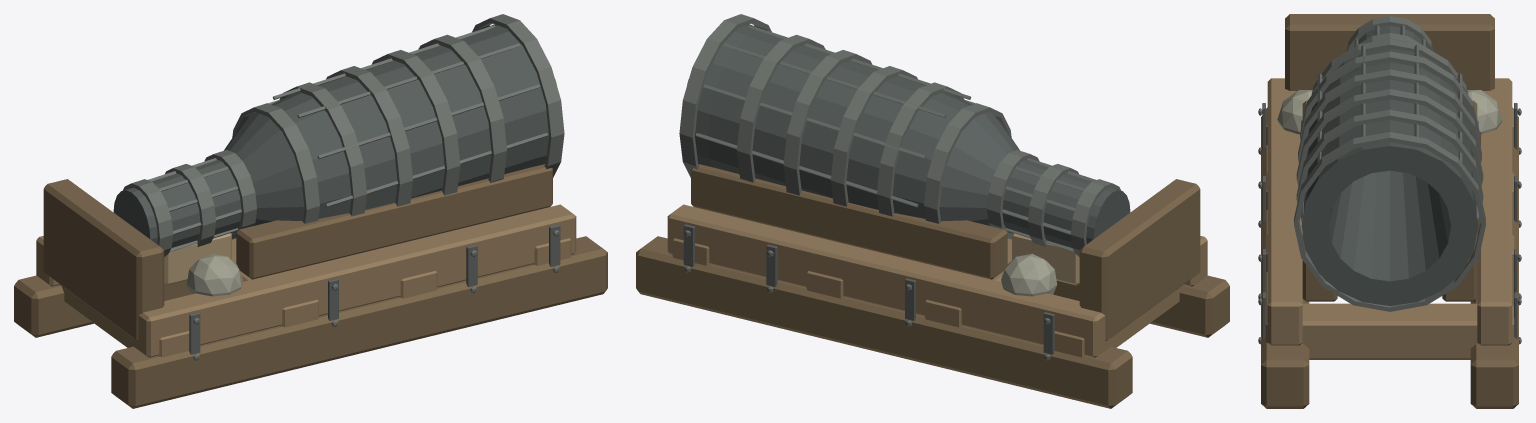
File: artillery_bombard.glb
3 renders of one model, left to right at view 1: azimuth 30°, elevation 25°; view 2: azimuth 150°, elevation 25°; view 3: azimuth 270°, elevation 25°, orthographic. The views are drawn at different scales.
Parts seen in each view (by area): view 1: artillery_bombard_oak_dark, artillery_bombard_gun_iron, artillery_bombard_gun_bands, artillery_bombard_oak, artillery_bombard_stone, artillery_bombard_iron, artillery_bombard_oak_light; view 2: artillery_bombard_oak_dark, artillery_bombard_gun_iron, artillery_bombard_gun_bands, artillery_bombard_oak, artillery_bombard_stone, artillery_bombard_iron, artillery_bombard_oak_light; view 3: artillery_bombard_gun_iron, artillery_bombard_oak, artillery_bombard_oak_dark, artillery_bombard_gun_bands, artillery_bombard_stone, artillery_bombard_iron.
Part boxes in pixels (x1,y1,x2,y2): artillery_bombard_oak_dark: (14, 164, 607, 408); artillery_bombard_gun_iron: (113, 24, 556, 247); artillery_bombard_gun_bands: (123, 14, 564, 360); artillery_bombard_oak: (36, 204, 576, 357); artillery_bombard_stone: (186, 253, 242, 296); artillery_bombard_iron: (189, 224, 560, 354); artillery_bombard_oak_light: (164, 233, 231, 285); artillery_bombard_oak_dark: (636, 164, 1229, 408); artillery_bombard_gun_iron: (687, 24, 1130, 247); artillery_bombard_gun_bands: (679, 14, 1120, 360); artillery_bombard_oak: (667, 204, 1207, 357); artillery_bombard_stone: (1001, 253, 1057, 296); artillery_bombard_iron: (683, 224, 1054, 354); artillery_bombard_oak_light: (1012, 233, 1079, 285); artillery_bombard_gun_iron: (1301, 26, 1478, 305); artillery_bombard_oak: (1265, 78, 1514, 359); artillery_bombard_oak_dark: (1261, 14, 1518, 408); artillery_bombard_gun_bands: (1258, 16, 1521, 344); artillery_bombard_stone: (1277, 90, 1502, 134); artillery_bombard_iron: (1262, 103, 1517, 339).
Size of the model in its own units: 3.08 by 1.46 by 1.36.
